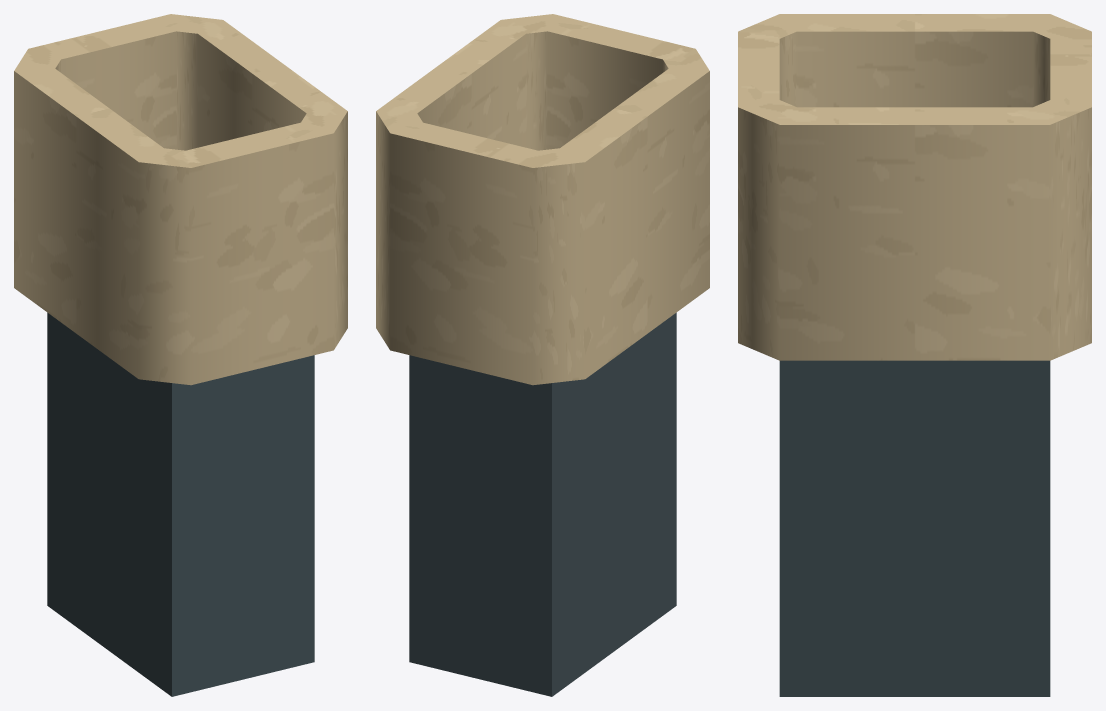
Rendered from chimney-top.gltf.
3 views of the same model, side by side, from view 1: azimuth 30°, elevation 25°; view 2: azimuth 150°, elevation 25°; view 3: azimuth 270°, elevation 25° (orthographic). The views are drawn at different scales.
Visible parts, largest first — view 1: chimney-top; view 2: chimney-top; view 3: chimney-top.
Boxes of the visible parts, x1,y1,x2,y2 form: chimney-top: (14,14,347,696); chimney-top: (376,14,709,696); chimney-top: (738,14,1091,696).
Bounding box in the file's own units: 0.2519 × 0.625 × 0.34.
Materials: 2 (1 with a texture image).
